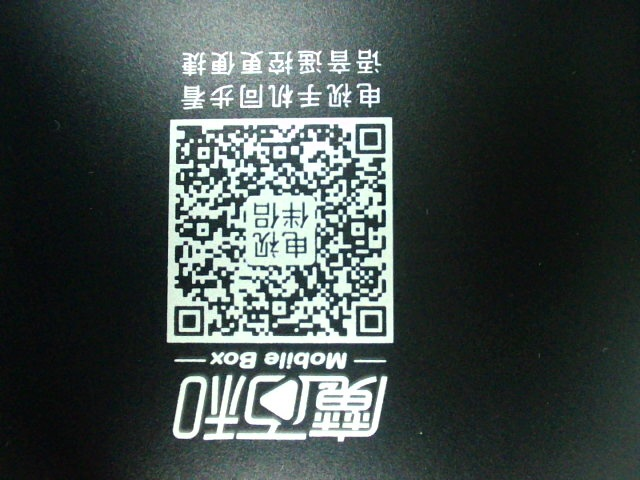AZ_MobileBox: (150, 45, 416, 450)
